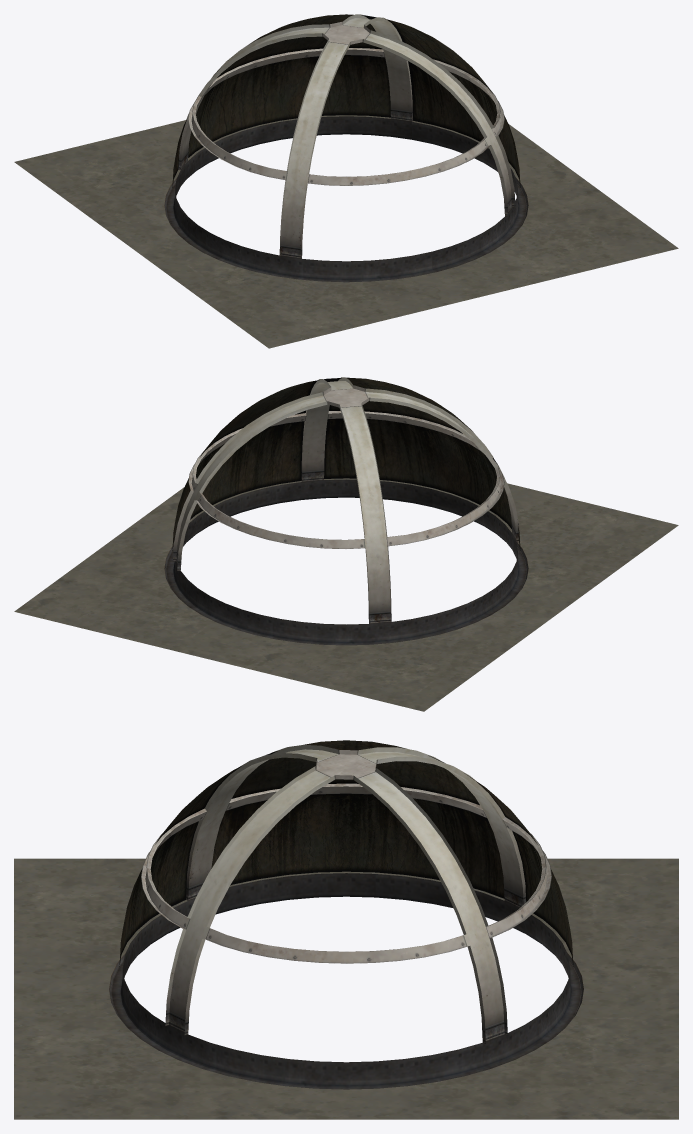
The model's file is 03_02_containment_room_ceiling.dae.
The picture shows the model from 3 angles, top to bottom: view 1: azimuth 30°, elevation 25°; view 2: azimuth 150°, elevation 25°; view 3: azimuth 270°, elevation 25°; orthographic projection. The views are drawn at different scales.
Visible parts, largest first — view 1: 03_02_containment_room_ceiling__2_, ceiling, glass; view 2: 03_02_containment_room_ceiling__2_, ceiling, glass; view 3: 03_02_containment_room_ceiling__2_, ceiling, glass.
Part boxes in pixels (x1=…): 03_02_containment_room_ceiling__2_: x1=14, y1=115, x2=678, y2=348; ceiling: x1=164, y1=14, x2=528, y2=282; glass: x1=172, y1=14, x2=520, y2=187; 03_02_containment_room_ceiling__2_: x1=14, y1=478, x2=678, y2=711; ceiling: x1=164, y1=377, x2=528, y2=645; glass: x1=172, y1=377, x2=520, y2=550; 03_02_containment_room_ceiling__2_: x1=14, y1=858, x2=678, y2=1119; ceiling: x1=109, y1=744, x2=583, y2=1089; glass: x1=119, y1=740, x2=573, y2=966.
Size of the model in its own units: 13 by 5.35 by 14.
